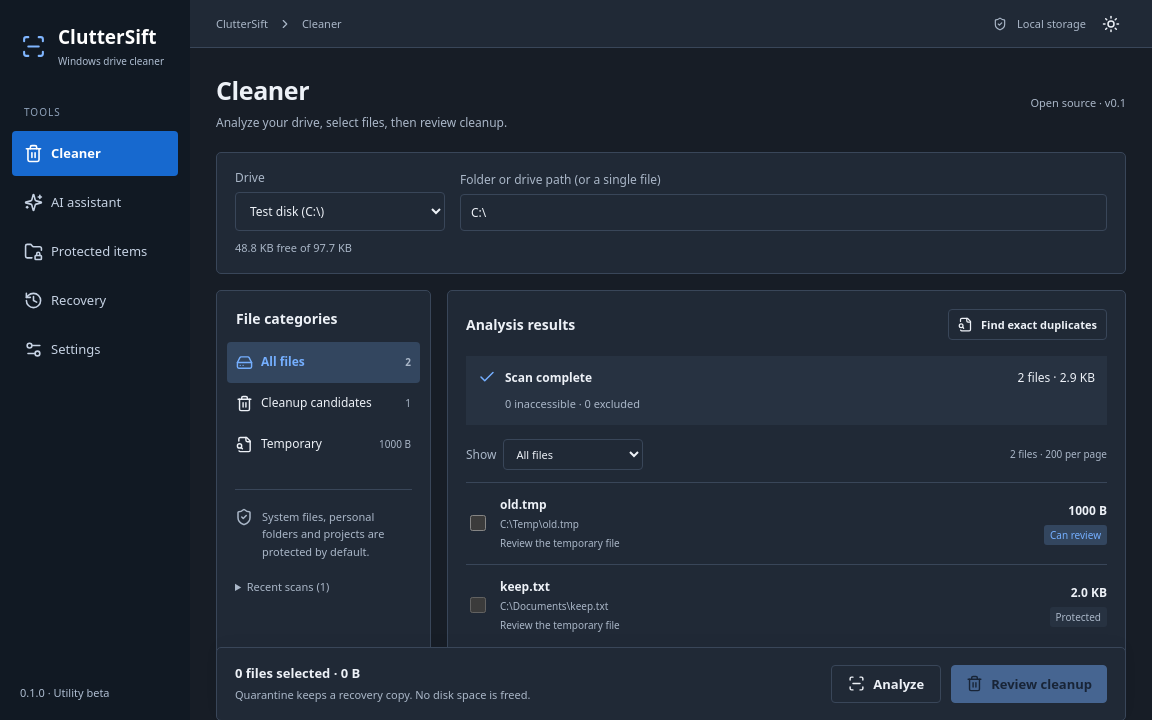
review workflow › offers cancellation before the first duplicate progress event
The width and height of the screenshot is (1152, 720).
Click the button "Cleaner" at (95, 154), box [12,131,178,176]
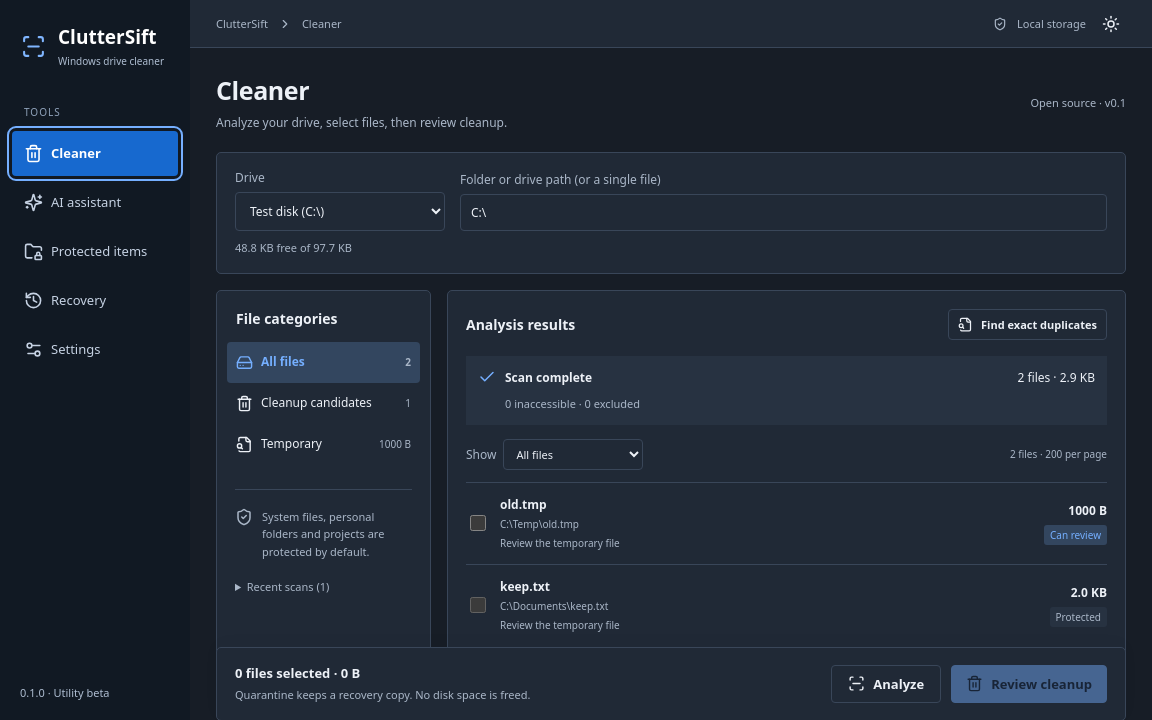
Click the button "Find exact duplicates" at (1028, 324), box [948,309,1107,340]
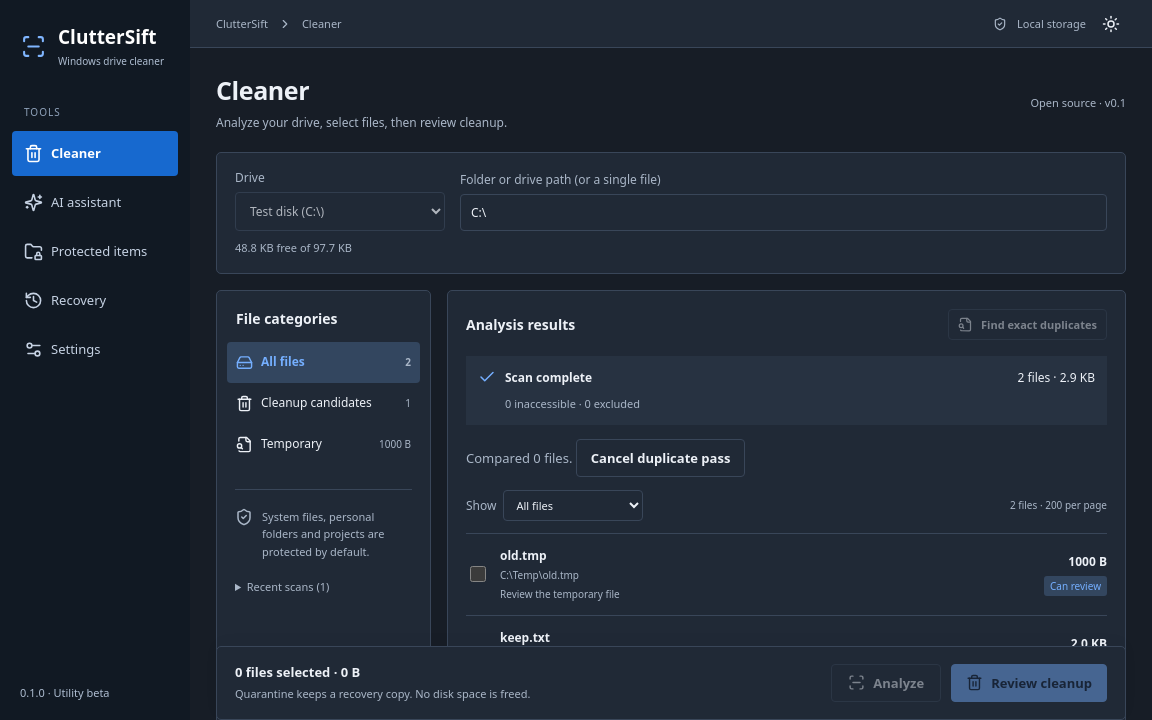
Click the button "Cancel duplicate pass" at (661, 458), box [576,439,745,477]
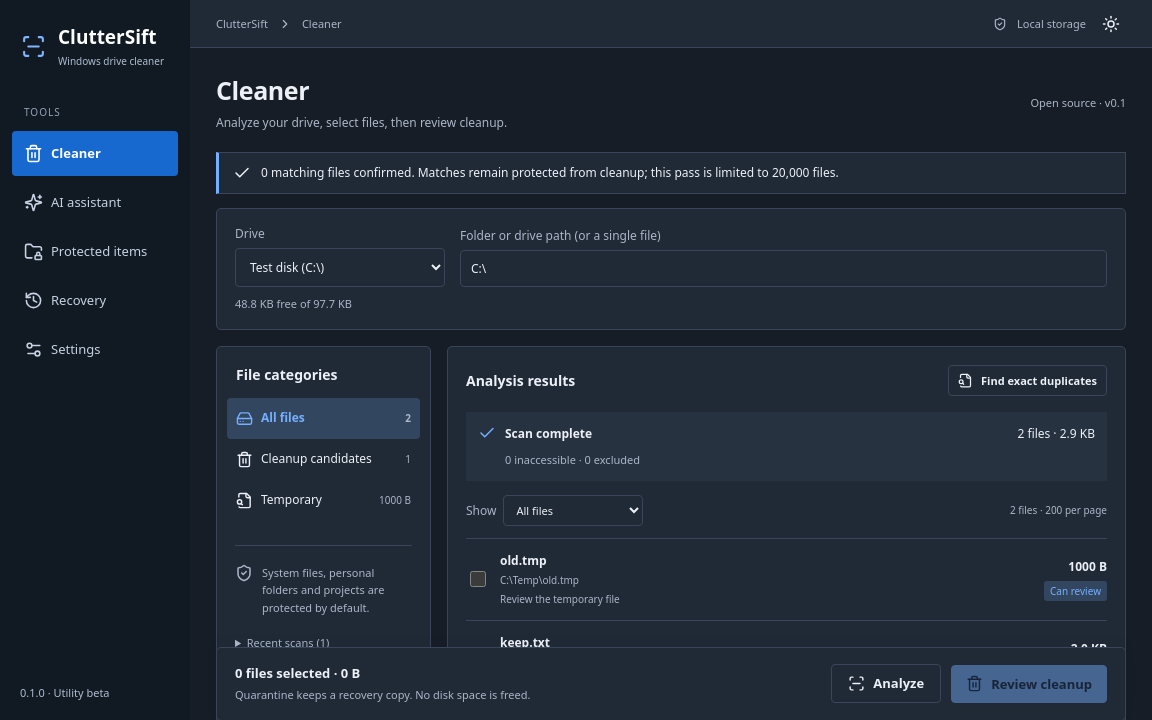
Check: the button "Cancel duplicate pass" is gone
